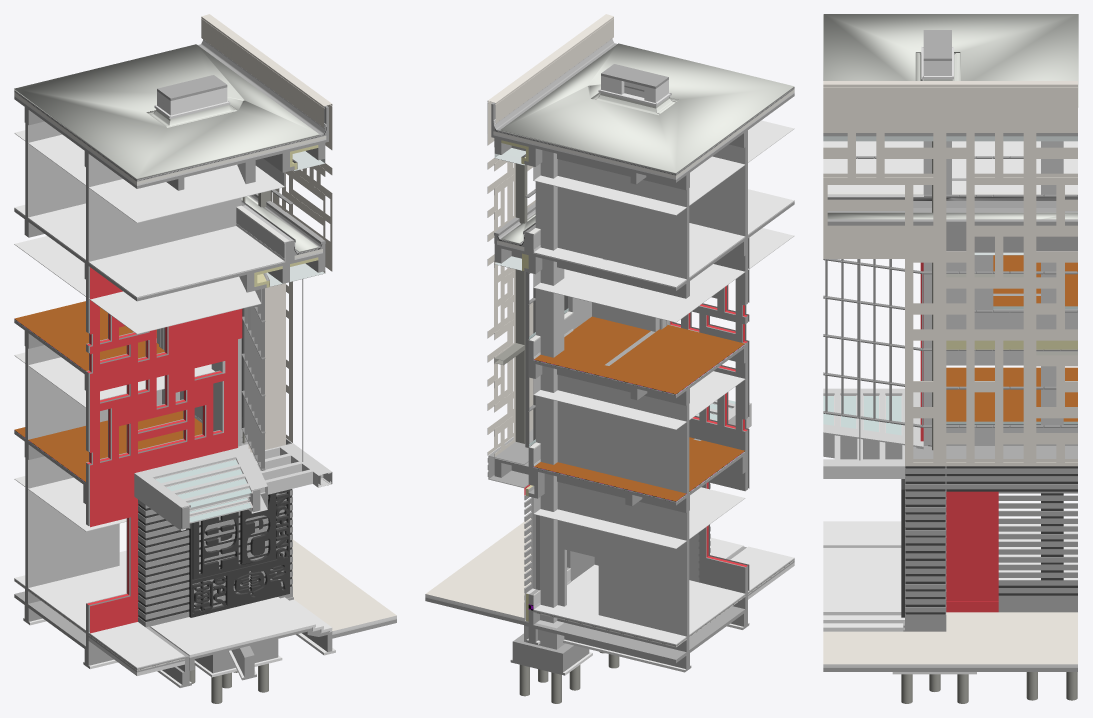
File: yuncheng-c-01.glb
The picture shows the model from 3 angles, left to right: view 1: azimuth 30°, elevation 25°; view 2: azimuth 150°, elevation 25°; view 3: azimuth 270°, elevation 25°; orthographic projection. The views are drawn at different scales.
Parts seen in each view (by area): view 1: 涂料－06, 001-内墙-涂料-白色, 有保温上人屋面, 646-材质-混凝土, 405-顶棚-纸面石膏板吊顶, 207-楼地面-瓷砖-浅色, 灰色花岗岩制作浮雕, 干挂黑色花岗岩外墙, 铝合金包梁, 216-楼地面-复合地板, 铝合金花格幕墙, 635-材质-石材-花岗岩 (+17 smaller); view 2: 001-内墙-涂料-白色, 646-材质-混凝土, 有保温上人屋面, 405-顶棚-纸面石膏板吊顶, 216-楼地面-复合地板, 铝合金花格幕墙, 513-场地-花岗岩硬地面-浅色, 220-楼地面-花岗岩石板, 207-楼地面-瓷砖-浅色, 609-材质-金属-钢, 647-材质-水泥砂浆, 铝合金压顶及封檐 (+10 smaller); view 3: 铝合金花格幕墙, 干挂黑色花岗岩外墙, 有保温上人屋面, 513-场地-花岗岩硬地面-浅色, 001-内墙-涂料-白色, 646-材质-混凝土, 涂料－06, 635-材质-石材-花岗岩, 616-材质-金属-银色, 铝合金包梁, 207-楼地面-瓷砖-浅色, 216-楼地面-复合地板 (+13 smaller).
Boxes of the visible parts, x1,y1,x2,y2 form: 涂料－06: (87, 267, 242, 633); 001-内墙-涂料-白色: (28, 121, 293, 587); 有保温上人屋面: (14, 44, 319, 179); 646-材质-混凝土: (14, 75, 396, 687); 405-顶棚-纸面石膏板吊顶: (14, 130, 283, 531); 207-楼地面-瓷砖-浅色: (14, 203, 283, 297); 灰色花岗岩制作浮雕: (189, 489, 289, 617); 干挂黑色花岗岩外墙: (138, 429, 292, 627); 铝合金包梁: (134, 443, 332, 530); 216-楼地面-复合地板: (14, 301, 202, 481); 铝合金花格幕墙: (248, 105, 332, 452); 635-材质-石材-花岗岩: (14, 578, 332, 668); 001-内墙-涂料-白色: (524, 144, 745, 649); 646-材质-混凝土: (425, 64, 794, 675); 有保温上人屋面: (500, 43, 794, 173); 405-顶棚-纸面石膏板吊顶: (534, 120, 793, 548); 216-楼地面-复合地板: (534, 316, 744, 501); 铝合金花格幕墙: (488, 101, 535, 456); 513-场地-花岗岩硬地面-浅色: (426, 518, 531, 620); 220-楼地面-花岗岩石板: (534, 564, 744, 644); 207-楼地面-瓷砖-浅色: (534, 189, 793, 286); 609-材质-金属-钢: (495, 163, 619, 703); 647-材质-水泥砂浆: (425, 38, 794, 647); 铝合金压顶及封檐: (488, 14, 613, 123); 铝合金花格幕墙: (823, 87, 1077, 466); 干挂黑色花岗岩外墙: (903, 447, 1077, 631); 有保温上人屋面: (823, 14, 1078, 106); 513-场地-花岗岩硬地面-浅色: (823, 612, 1077, 664); 001-内墙-涂料-白色: (827, 141, 1077, 580); 646-材质-混凝土: (823, 30, 1077, 671); 涂料－06: (920, 262, 998, 612); 635-材质-石材-花岗岩: (823, 548, 904, 631); 616-材质-金属-银色: (823, 156, 1077, 427); 铝合金包梁: (823, 388, 923, 478); 207-楼地面-瓷砖-浅色: (823, 141, 1077, 191); 216-楼地面-复合地板: (946, 255, 1077, 421).
Bounding box in the file's own units: 1.09 × 2.44 × 0.892.
35 materials, 2 textured.
